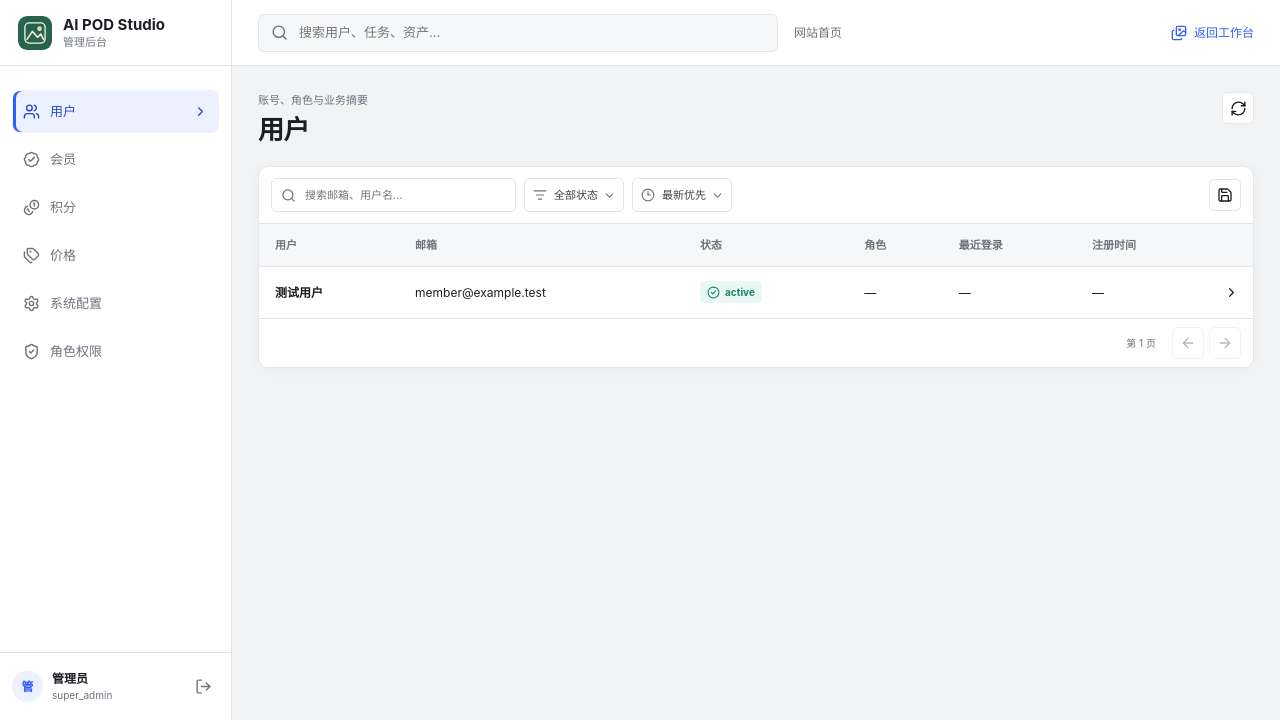
it: administrator configuration workflows › exposes membership, points and role management from the user detail
Step 1. Click the cell "测试用户" → [299, 292], box [259,266,399,318]
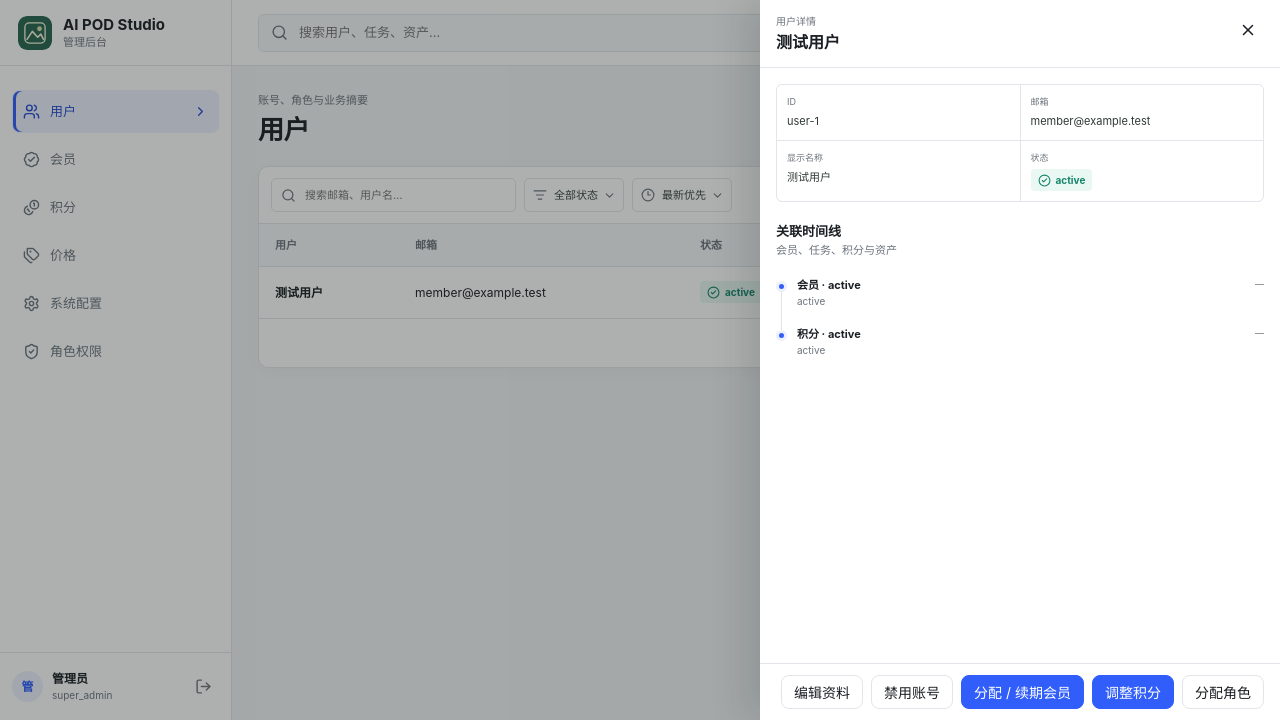
Check: the button "分配 / 续期会员" is shown, box [961,675,1084,709]
Check: the button "调整积分" is shown, box [1092,675,1174,709]
Check: the button "分配角色" is shown, box [1182,675,1264,709]
